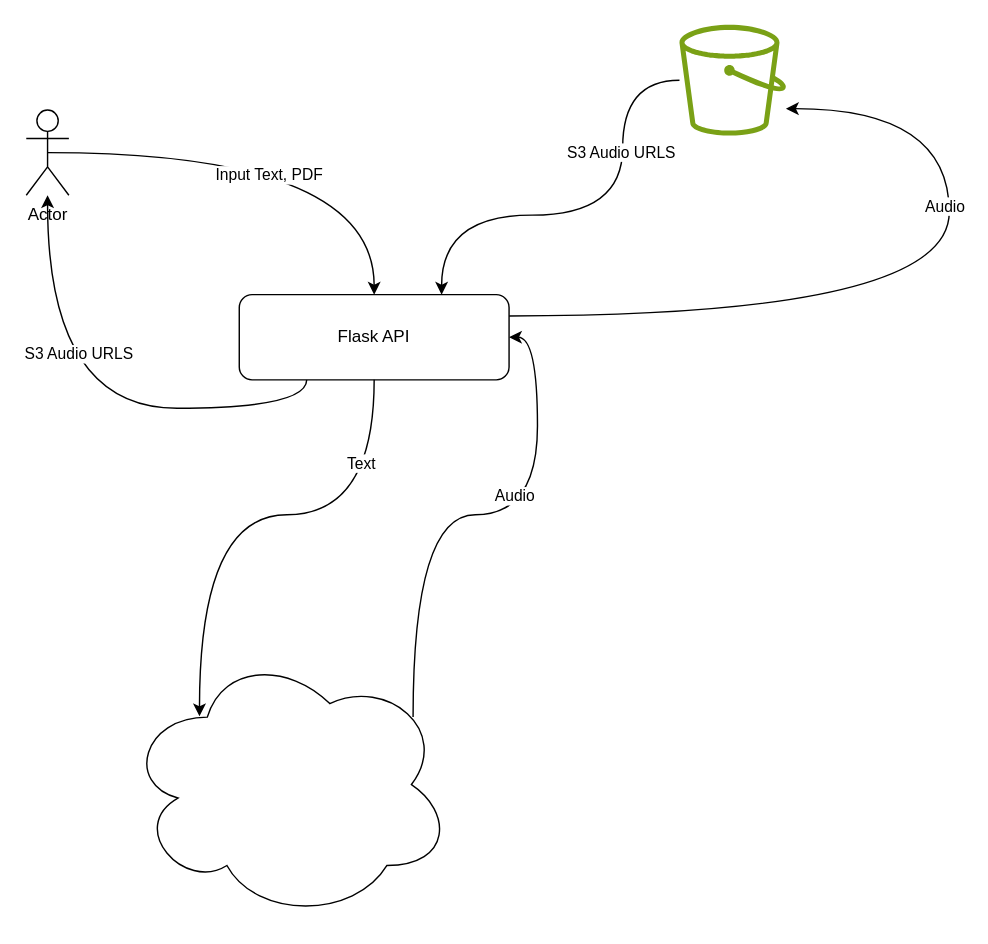
Image size: 988x944. Some labels were removed from this diagram. The shapes that lost their labels are listed below. From the top down, each one's centre as x and y in pixels, then its label:
At point 732,79: "S3 Bucket".
At point 288,783: "OPEN AI tts-1 model".
